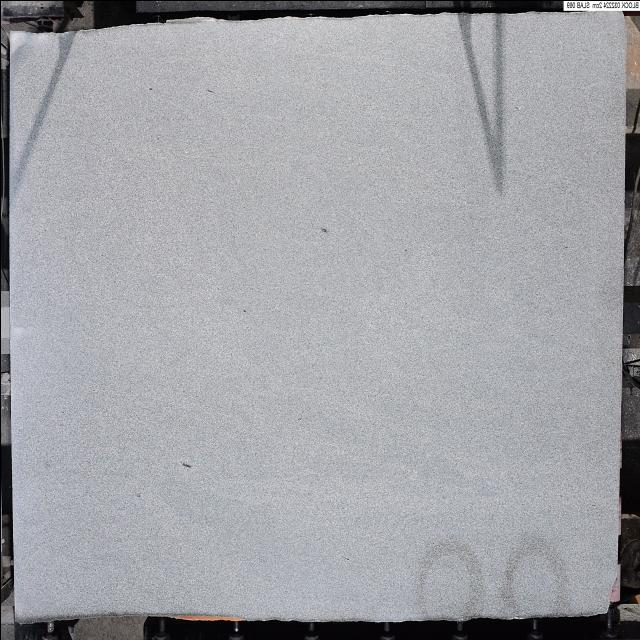chapa: (9, 14, 625, 621)
